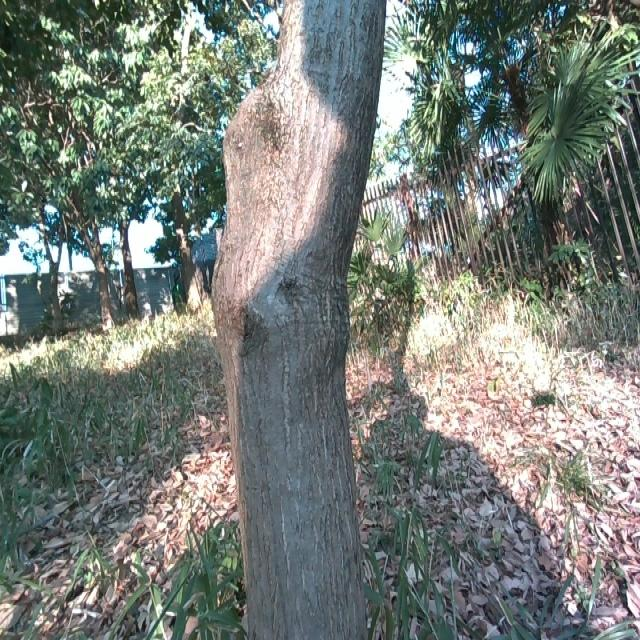artifact: (352, 52, 640, 317), (0, 265, 215, 342)
tree: (194, 0, 403, 640), (68, 154, 142, 336), (154, 140, 212, 308), (31, 141, 71, 335)
